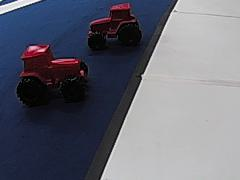Tracktor: (15, 39, 92, 105), (87, 2, 143, 49)
